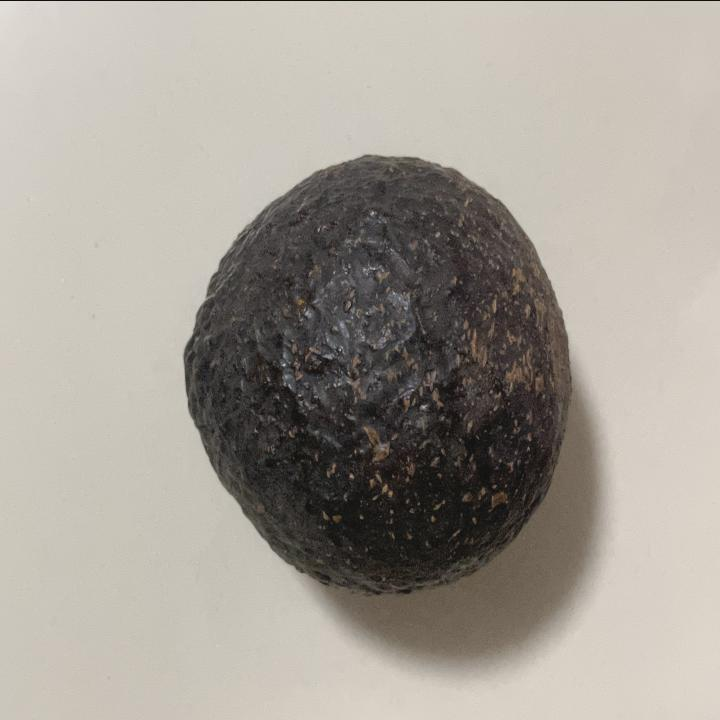Level3: (174, 142, 580, 606)
